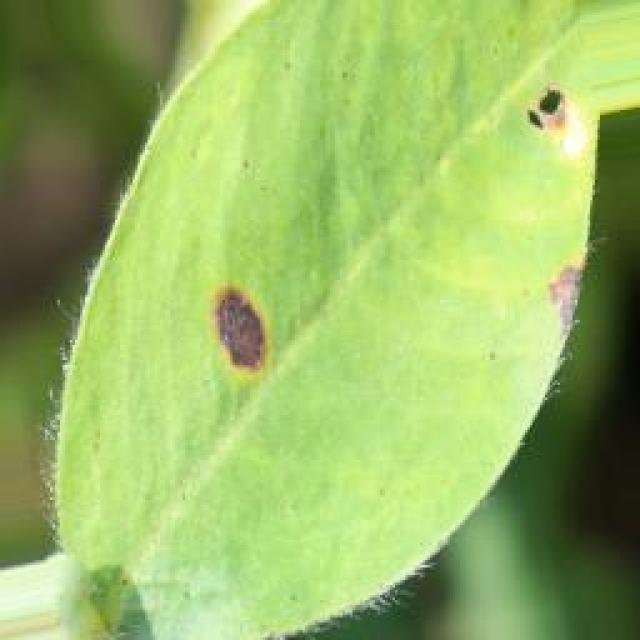Early_leaf_spot: (195, 261, 306, 420), (517, 70, 601, 203), (518, 247, 577, 338)
